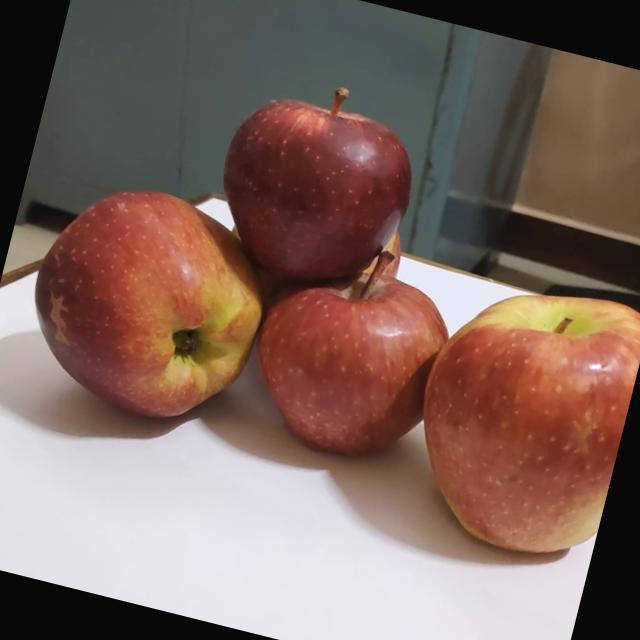apple: (376, 248, 640, 572), (3, 160, 293, 444), (196, 52, 440, 303), (234, 218, 466, 474), (216, 211, 253, 249)
